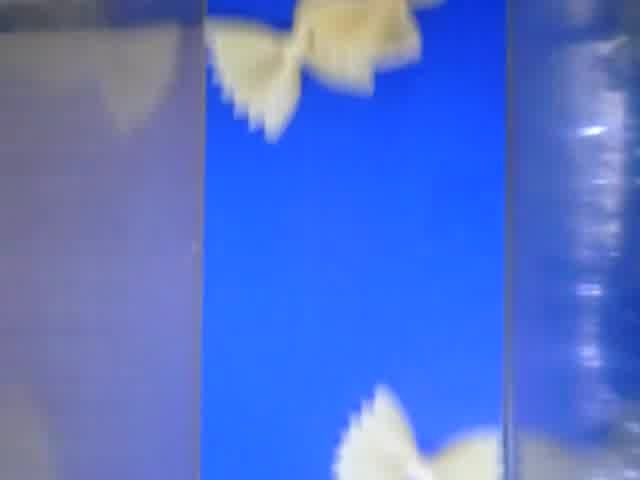farfalle: (202, 1, 377, 139), (333, 384, 503, 480)
